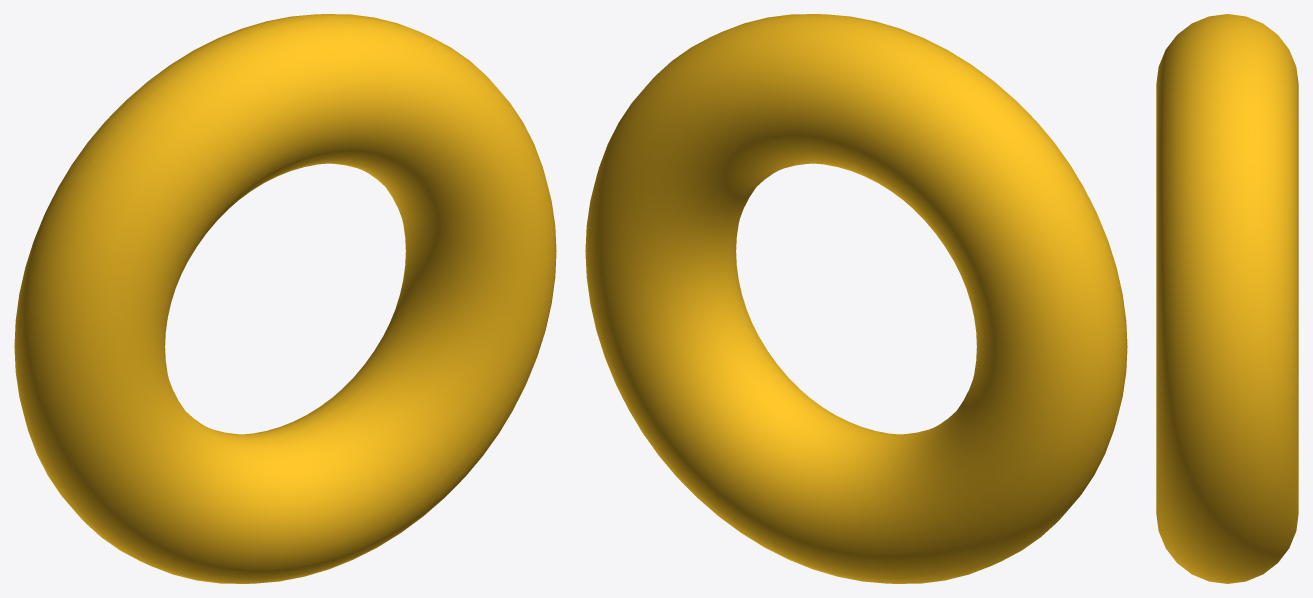
The model's file is RingKit.fbx.
3 views of the same model, side by side, from view 1: azimuth 30°, elevation 25°; view 2: azimuth 150°, elevation 25°; view 3: azimuth 270°, elevation 25° (orthographic). The views are drawn at different scales.
Visible parts, largest first — view 1: EV_Ring; view 2: EV_Ring; view 3: EV_Ring.
Part boxes in pixels (x1,y1,x2,y2): EV_Ring: (14, 14, 556, 583); EV_Ring: (585, 14, 1127, 583); EV_Ring: (1156, 14, 1298, 583).
Bounding box in the file's own units: 2.4 × 2.4 × 0.6.
